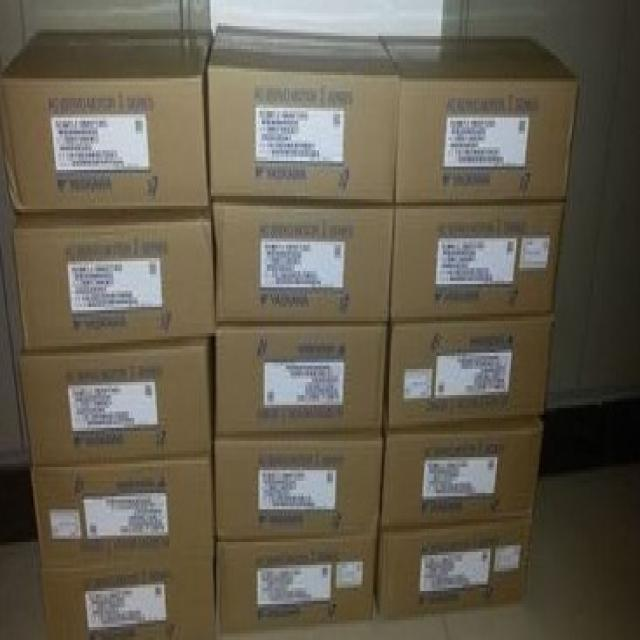box: (0, 27, 213, 213), (207, 25, 402, 203), (383, 35, 579, 203), (11, 208, 216, 352), (17, 335, 212, 468), (213, 199, 394, 323), (32, 454, 216, 570), (391, 201, 567, 319), (214, 322, 387, 435), (387, 315, 554, 428), (213, 434, 383, 540), (216, 537, 378, 637), (380, 427, 544, 525), (377, 525, 532, 612), (41, 562, 214, 637)
